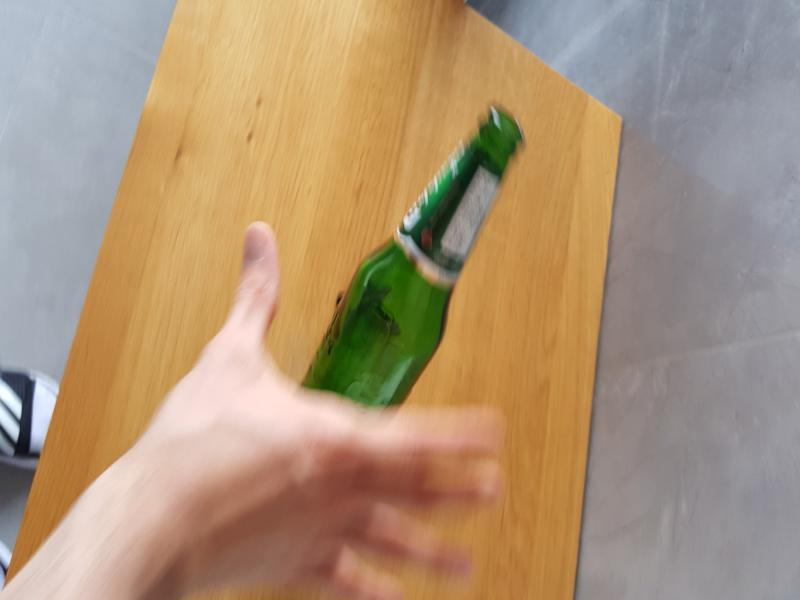Beer: (298, 104, 523, 406)
